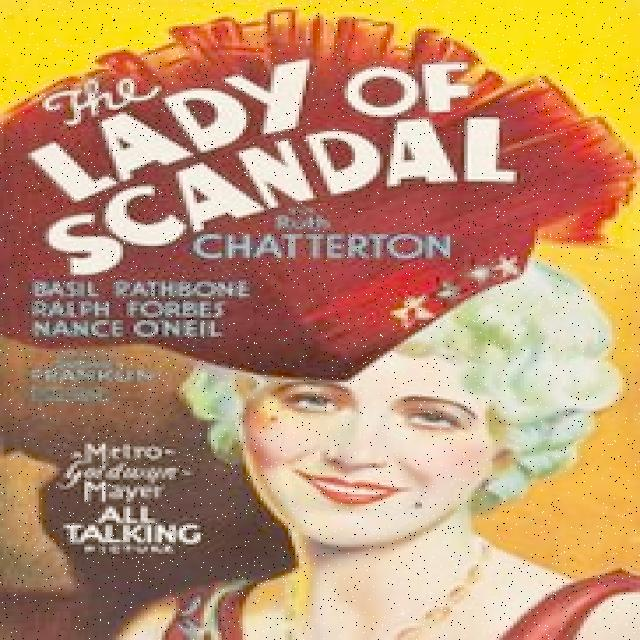movie-judul: (3, 45, 535, 284)
picture: (2, 9, 640, 640)
